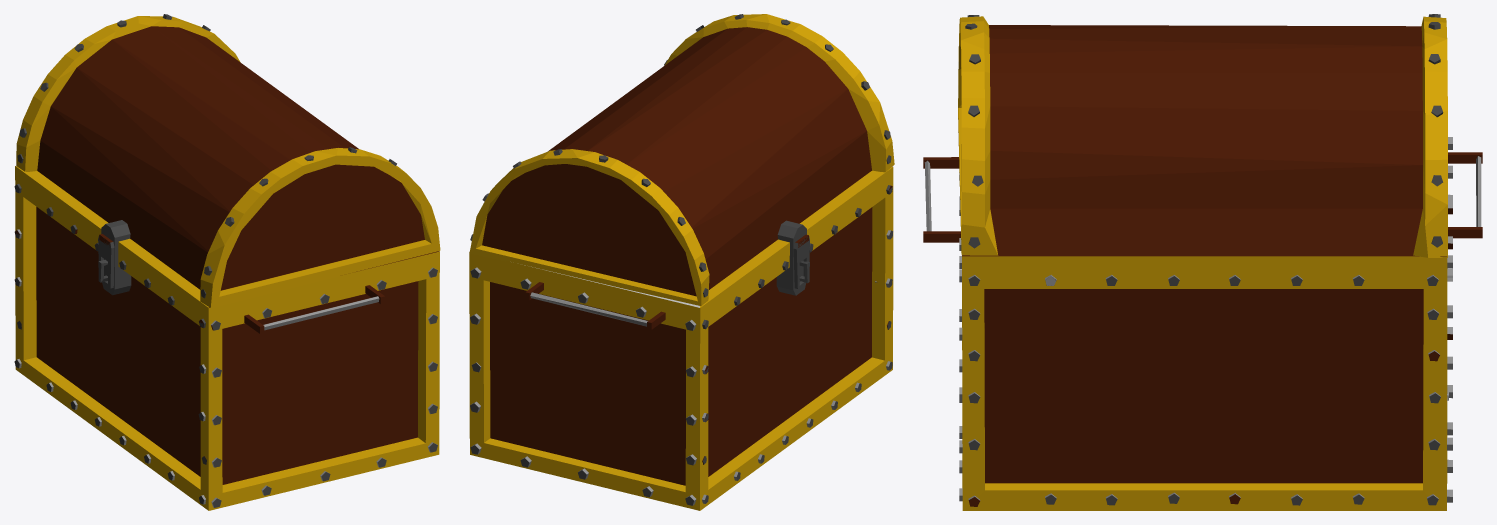
Rendered from finished chest.fbx.
3 renders of one model, left to right at view 1: azimuth 30°, elevation 25°; view 2: azimuth 150°, elevation 25°; view 3: azimuth 270°, elevation 25°, orthographic. The views are drawn at different scales.
Visible parts, largest first — view 1: Cube; view 2: Cube; view 3: Cube.
Boxes of the visible parts, x1,y1,x2,y2 form: Cube: (14,14,440,510); Cube: (469,14,894,510); Cube: (923,14,1482,510).
Bounding box in the file's own units: 213 × 270 × 334.
